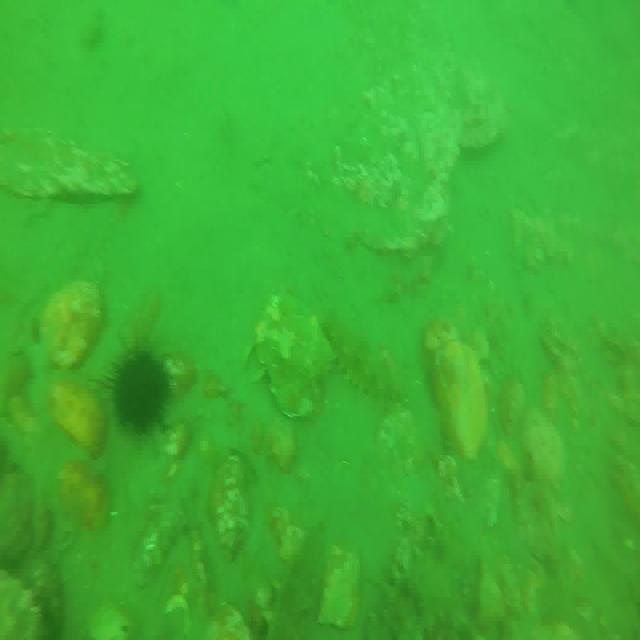echinus: (107, 343, 171, 437)
holothurian: (324, 315, 398, 401)
